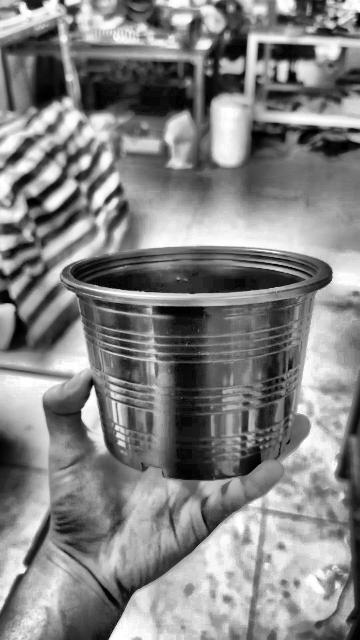pot: (59, 247, 331, 480)
